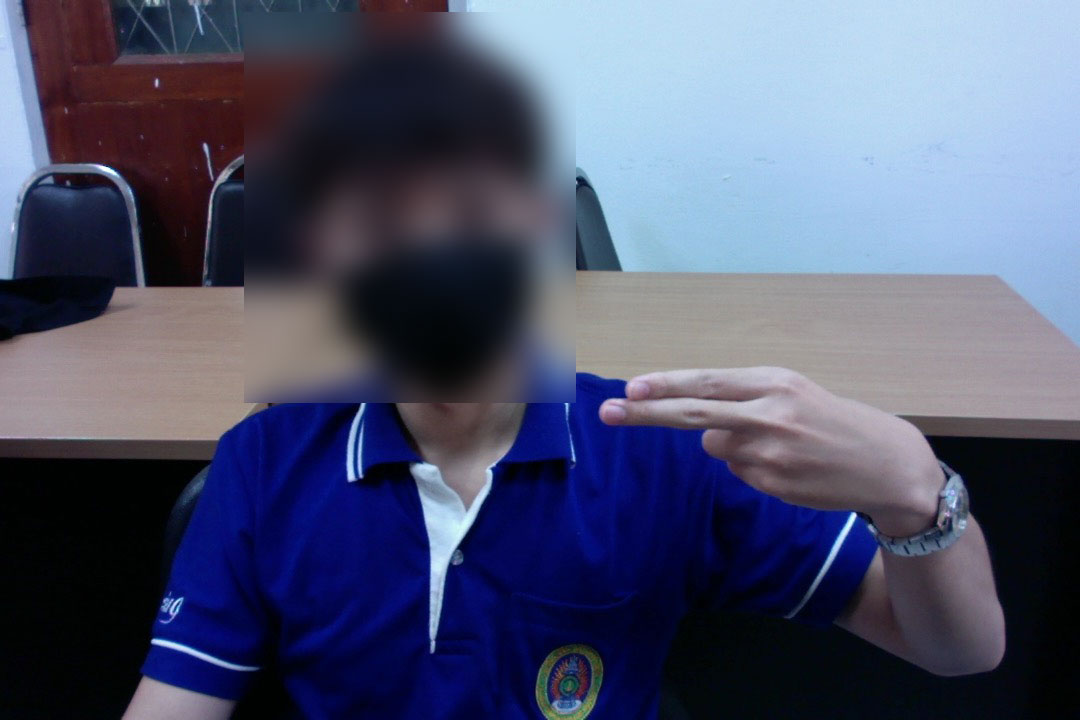hor: (590, 358, 959, 522)
